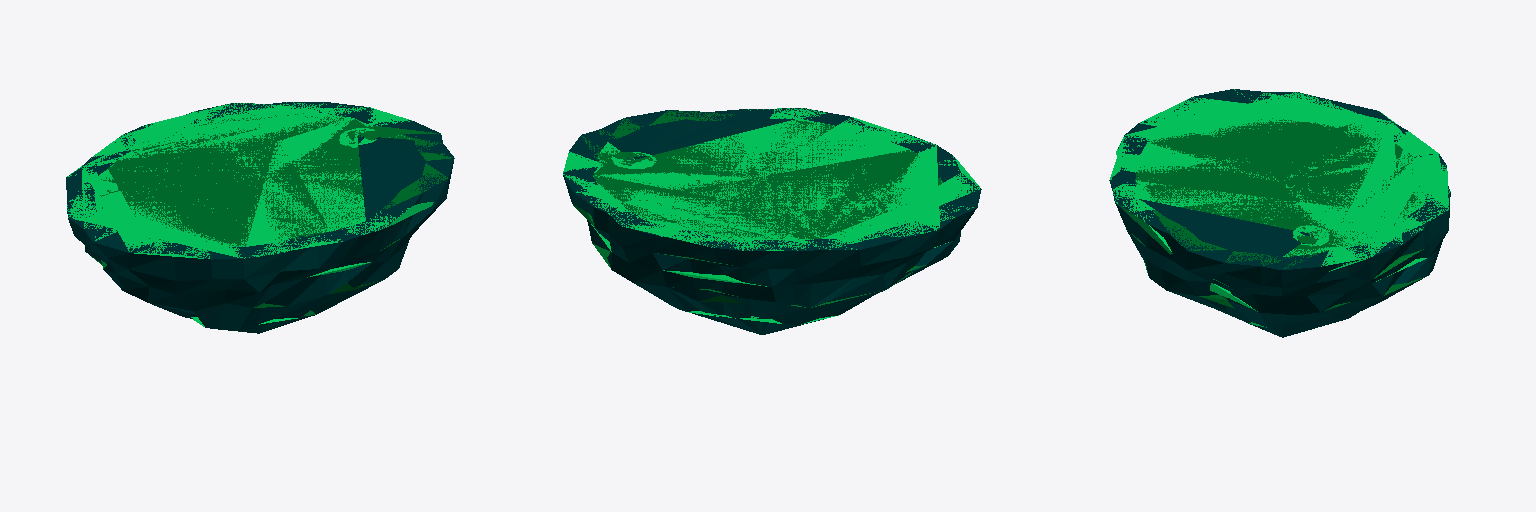
The picture shows the model from 3 angles: view 1: azimuth 30°, elevation 25°; view 2: azimuth 150°, elevation 25°; view 3: azimuth 270°, elevation 25°; orthographic projection.
Parts seen in each view (by area): view 1: polySurface7848, pCylinder6; view 2: polySurface7848, pCylinder6; view 3: polySurface7848, pCylinder6.
Boxes of the visible parts, box(x1,y1,x2,y2) form: polySurface7848: box(67, 102, 451, 326); pCylinder6: box(66, 102, 454, 333); polySurface7848: box(563, 108, 979, 324); pCylinder6: box(563, 108, 981, 334); polySurface7848: box(1110, 89, 1450, 327); pCylinder6: box(1109, 89, 1450, 337).
Size of the model in its own units: 161 by 66.08 by 128.
Materials: 4 (1 with a texture image).